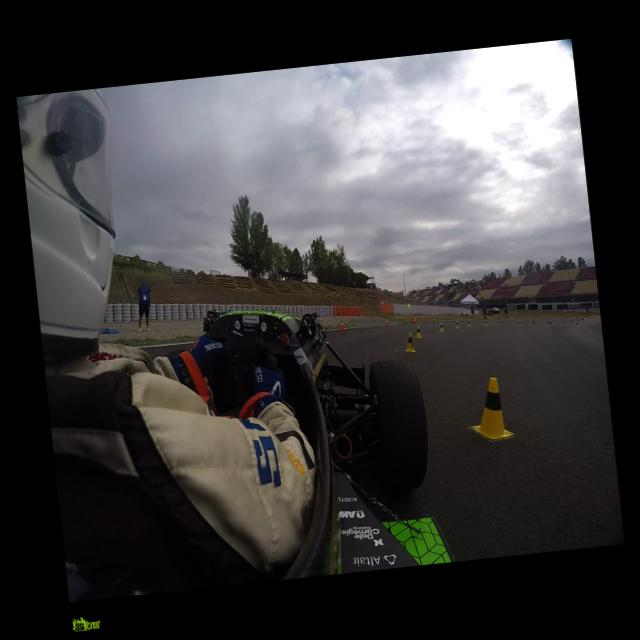orange_cone: (338, 320, 344, 330), (412, 316, 416, 324), (384, 319, 388, 326), (432, 316, 436, 322), (409, 314, 413, 320), (499, 317, 503, 323), (460, 316, 462, 322), (532, 318, 534, 323)
yellow_cone: (468, 375, 514, 443), (402, 331, 416, 354), (413, 324, 422, 338), (438, 322, 443, 333), (453, 320, 458, 329), (517, 319, 522, 326), (466, 319, 470, 326), (483, 320, 487, 326), (546, 321, 550, 326), (415, 314, 417, 320)
